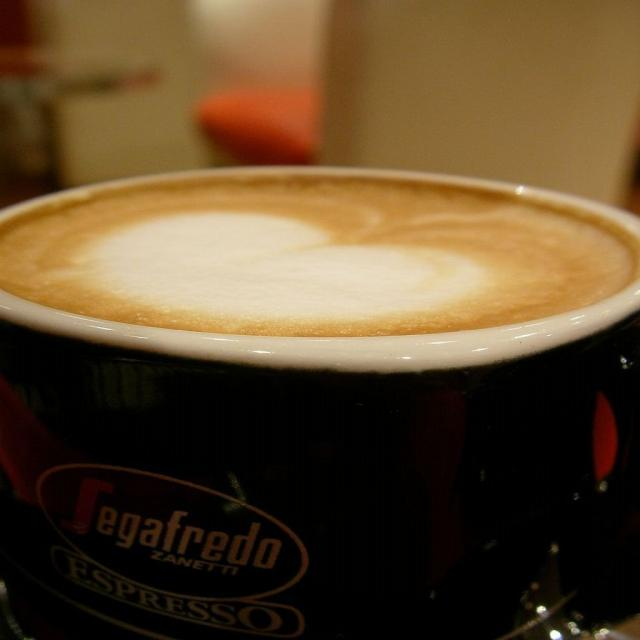Coffee: (3, 165, 640, 372)
